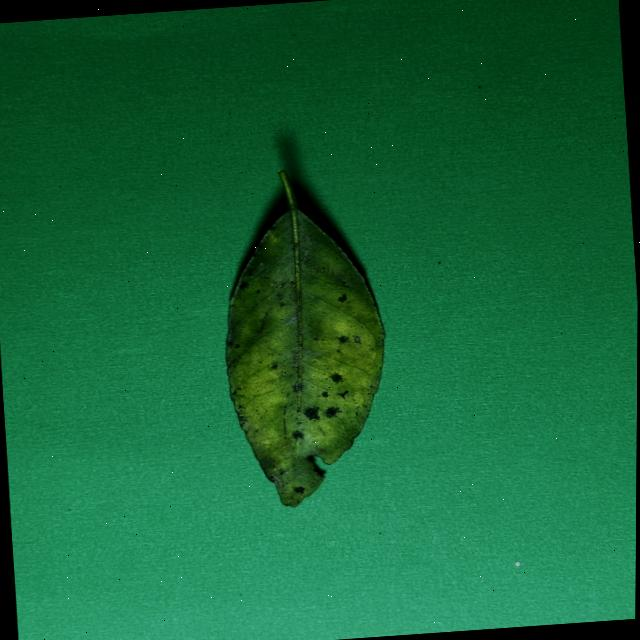sooty_mold: (224, 170, 383, 505)
